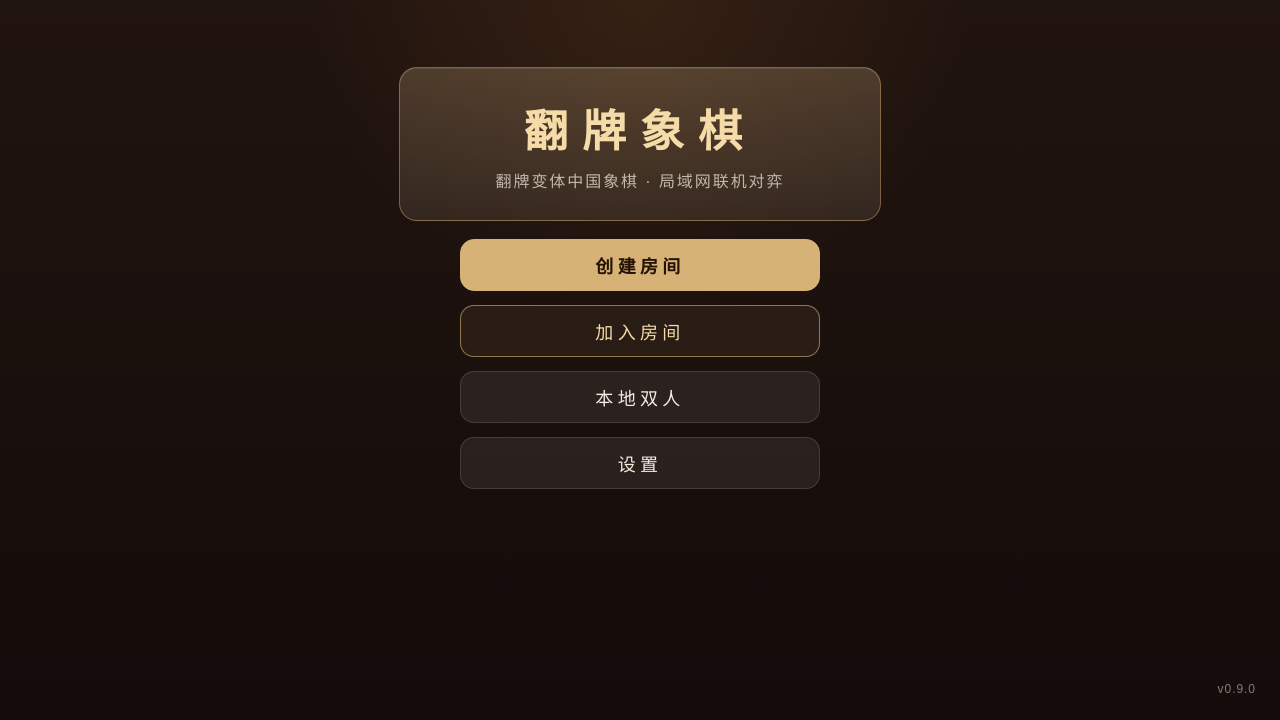
it: create room flow › surfaces create failures with an actionable message and a retry
Click the button with test id "menu-create". click: (640,265)
box: [460, 239, 820, 291]
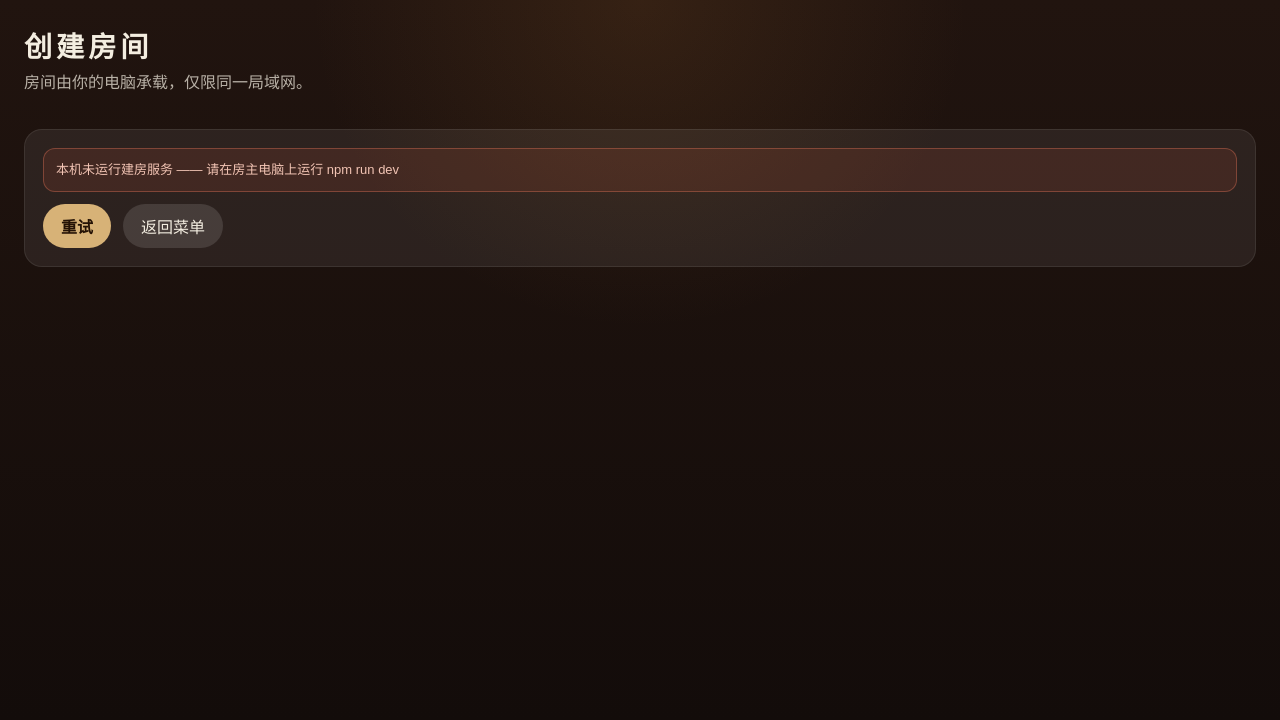
Expected: the text with test id "create-error" shows "本机未运行建房服务", [56, 162, 399, 177]
Expected: the button with test id "create-retry" is shown, [43, 204, 111, 248]
